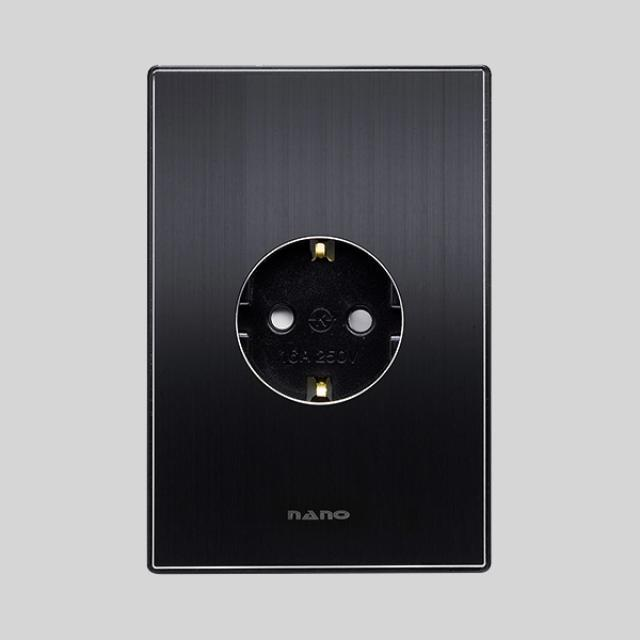typeb: (131, 47, 528, 597)
